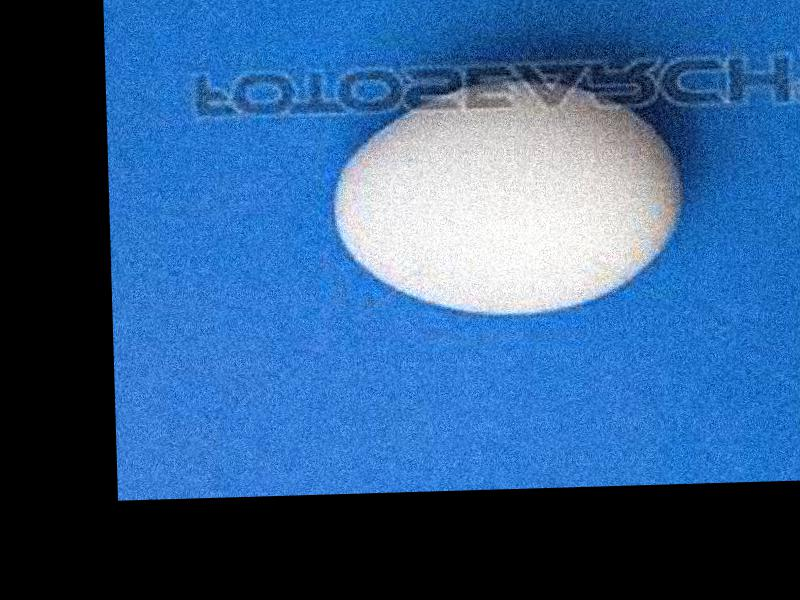Eggs: (331, 69, 684, 318)
